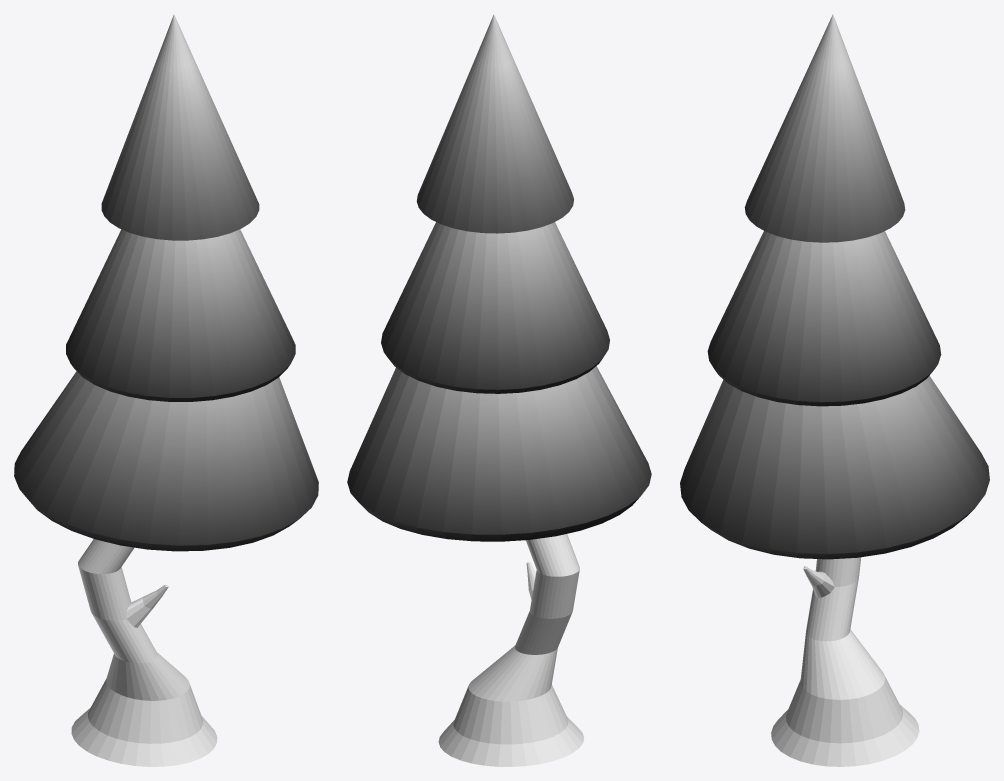
The model's file is Tree_mid_1_LOD_2.fbx.
The picture shows the model from 3 angles, left to right: view 1: azimuth 30°, elevation 25°; view 2: azimuth 150°, elevation 25°; view 3: azimuth 270°, elevation 25°; orthographic projection.
Parts seen in each view (by area): view 1: Cylinder; view 2: Cylinder; view 3: Cylinder.
Part boxes in pixels (x1,y1,x2,y2): Cylinder: [14, 14, 318, 766]; Cylinder: [347, 14, 651, 766]; Cylinder: [680, 14, 989, 766].
Size of the model in its own units: 53.99 by 141 by 54.02.
2 materials, 1 textured.
